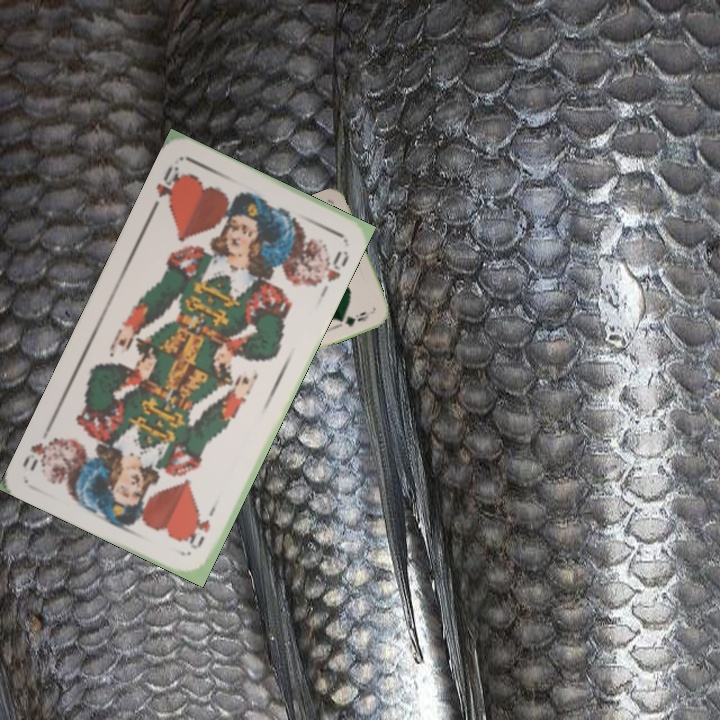HO: (147, 162, 186, 214), (185, 499, 220, 552)
